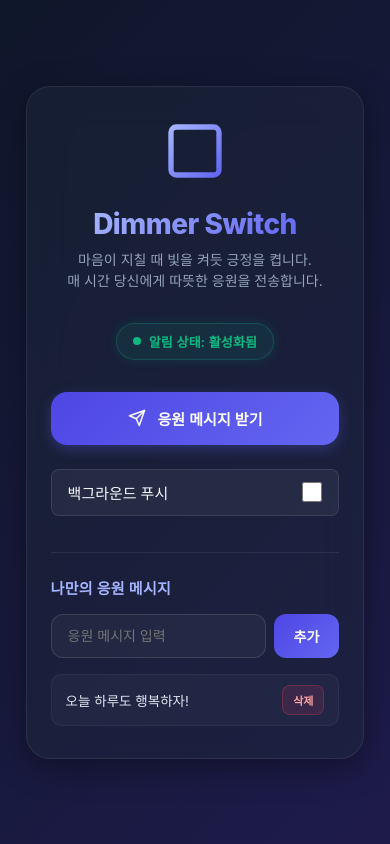
Test: Capacitor PWA 푸쉬 / 알림 기능 테스트 › 등록된 커스텀 응원 메시지를 삭제하는 경우
expect the list item with class "cheer-message-item" shows "오늘 하루도 행복하자!": met, box 66,692 -> 189,708
Click the button "삭제". click: (303, 700)
box: 282,684 -> 324,714
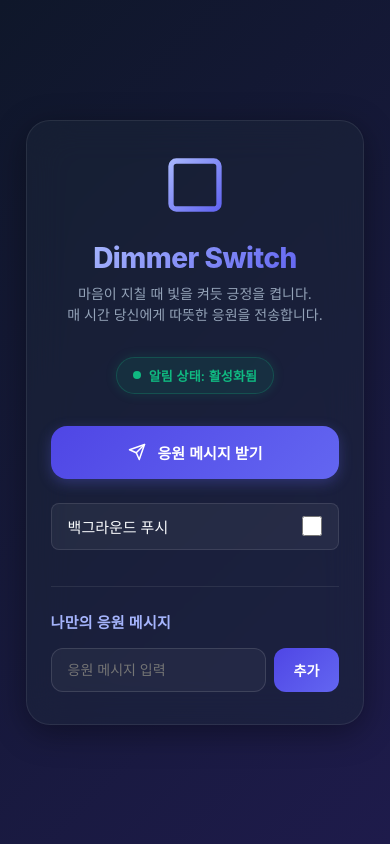
expect the text "오늘 하루도 행복하자!" is gone: met
